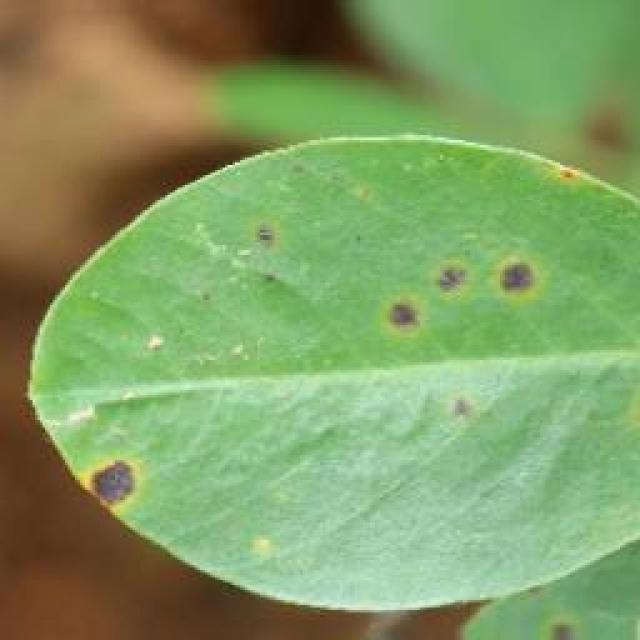Sigatoka: (357, 247, 547, 344), (69, 431, 160, 514), (228, 198, 310, 280), (539, 149, 605, 216)
